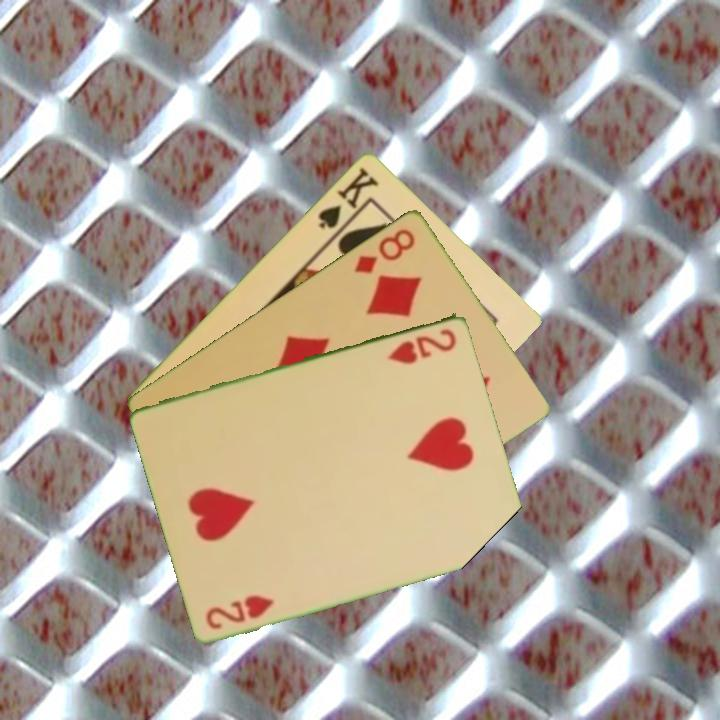2h: (384, 324, 460, 366), (202, 591, 278, 632)
8d: (351, 224, 419, 276)
Ks: (314, 163, 382, 232)
